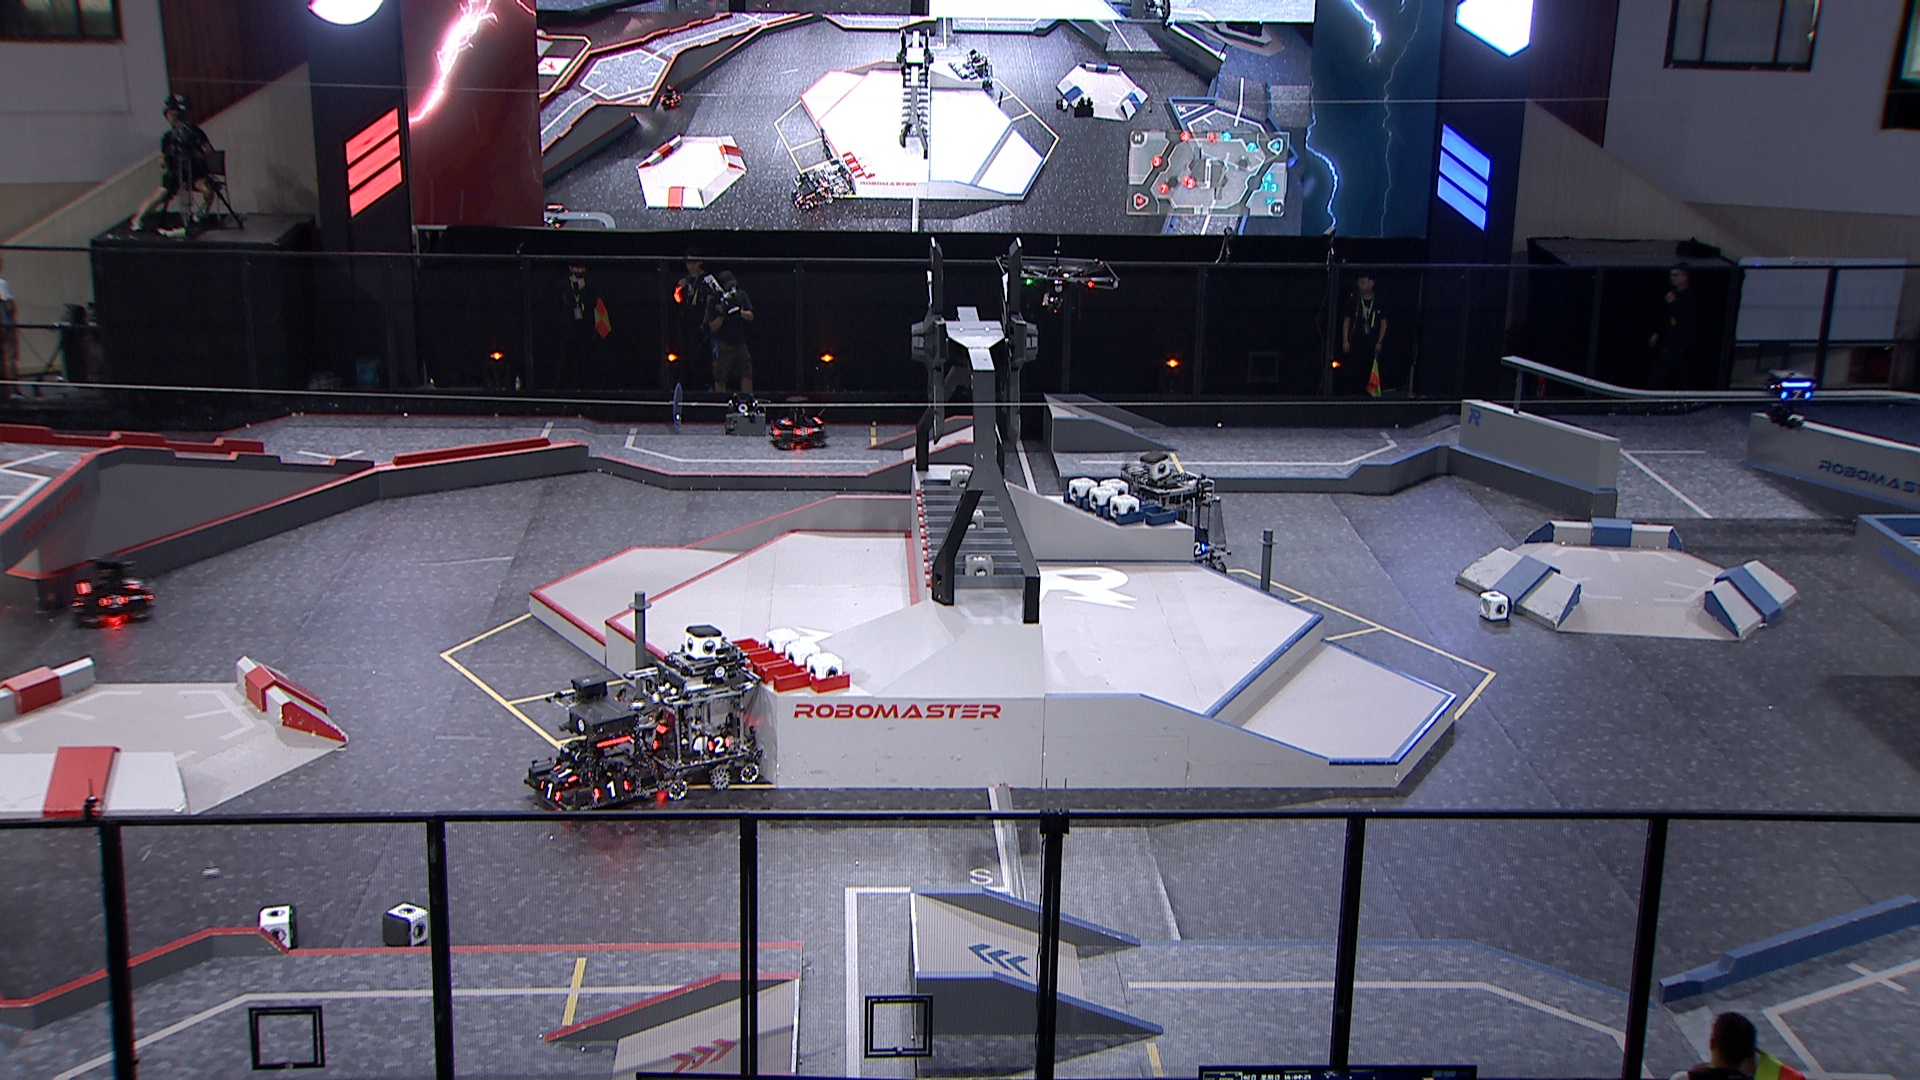armor: (591, 779, 628, 800), (551, 760, 576, 785), (98, 593, 129, 609), (537, 782, 562, 802), (1780, 389, 1809, 404), (708, 737, 732, 754), (790, 423, 814, 439), (123, 575, 141, 591), (1192, 541, 1209, 556), (764, 423, 779, 439), (782, 415, 793, 433)
car: (624, 632, 766, 802), (526, 671, 659, 818), (1116, 462, 1230, 580), (65, 551, 156, 628), (757, 392, 823, 450)
ignore: (789, 171, 829, 214), (961, 46, 1001, 88), (816, 164, 858, 199), (542, 204, 568, 229), (659, 83, 680, 111)
watcher: (1756, 371, 1820, 431)
